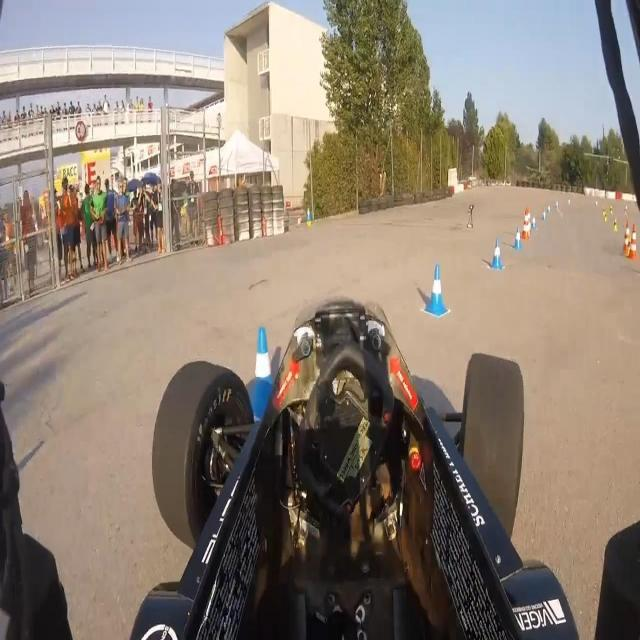blue_cone: (240, 324, 280, 420), (422, 263, 449, 319), (489, 237, 503, 270), (512, 228, 522, 252), (532, 216, 536, 231), (542, 210, 546, 221)
large_orange_cone: (622, 222, 631, 258), (629, 224, 638, 258), (522, 208, 530, 240)
yellow_cone: (627, 234, 632, 259), (612, 218, 618, 233), (604, 212, 608, 225), (602, 206, 605, 214)
